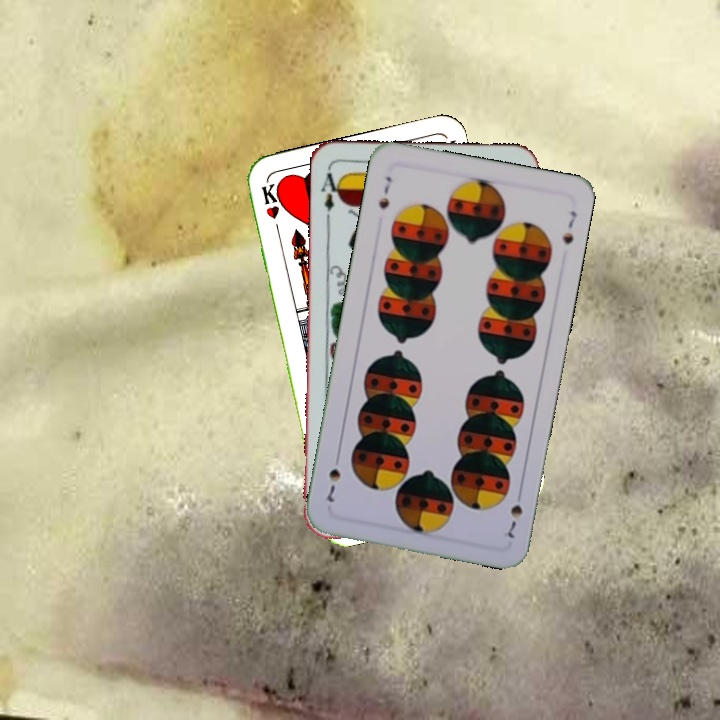EA: (317, 169, 344, 224)
HK: (257, 180, 283, 238)
S7: (503, 485, 526, 541), (374, 172, 394, 212)
